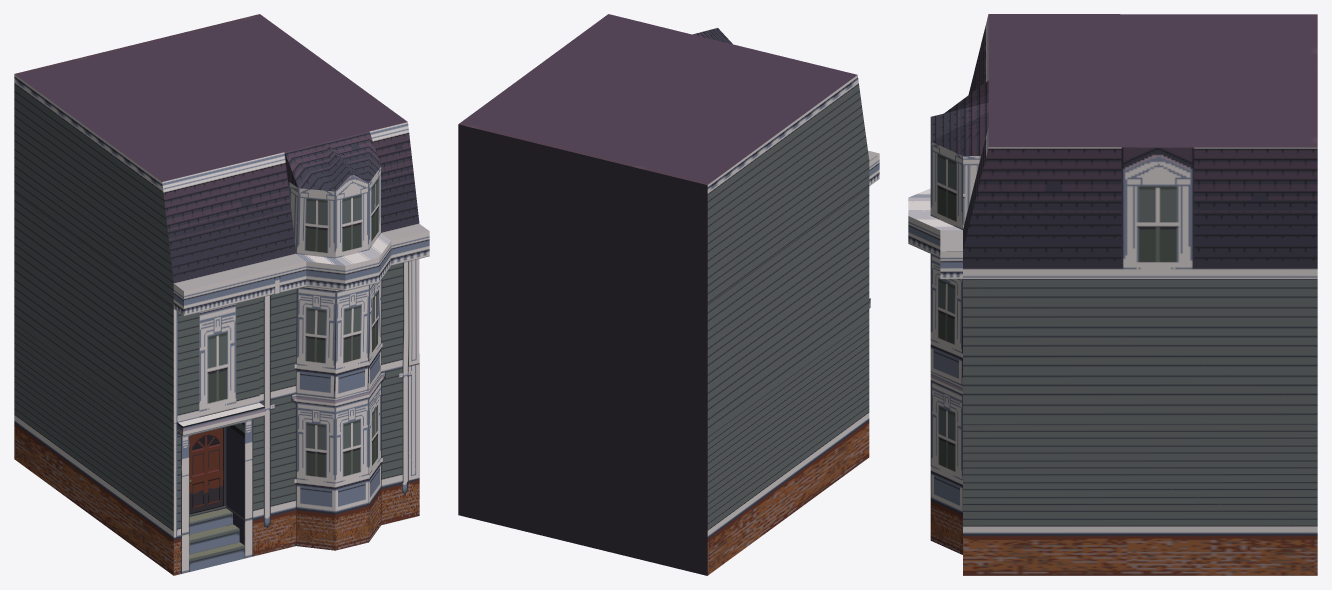
Rendered from threestoryhouse.glb.
The picture shows the model from 3 angles, left to right: view 1: azimuth 30°, elevation 25°; view 2: azimuth 150°, elevation 25°; view 3: azimuth 270°, elevation 25°; orthographic projection. The views are drawn at different scales.
Visible parts, largest first — view 1: Cube; view 2: Cube; view 3: Cube.
Part boxes in pixels (x1,y1,x2,y2): Cube: (14,14,429,575); Cube: (458,14,879,575); Cube: (908,14,1317,575).
Size of the model in its own units: 7.21 by 10.81 by 9.36.
1 material, 1 textured.
